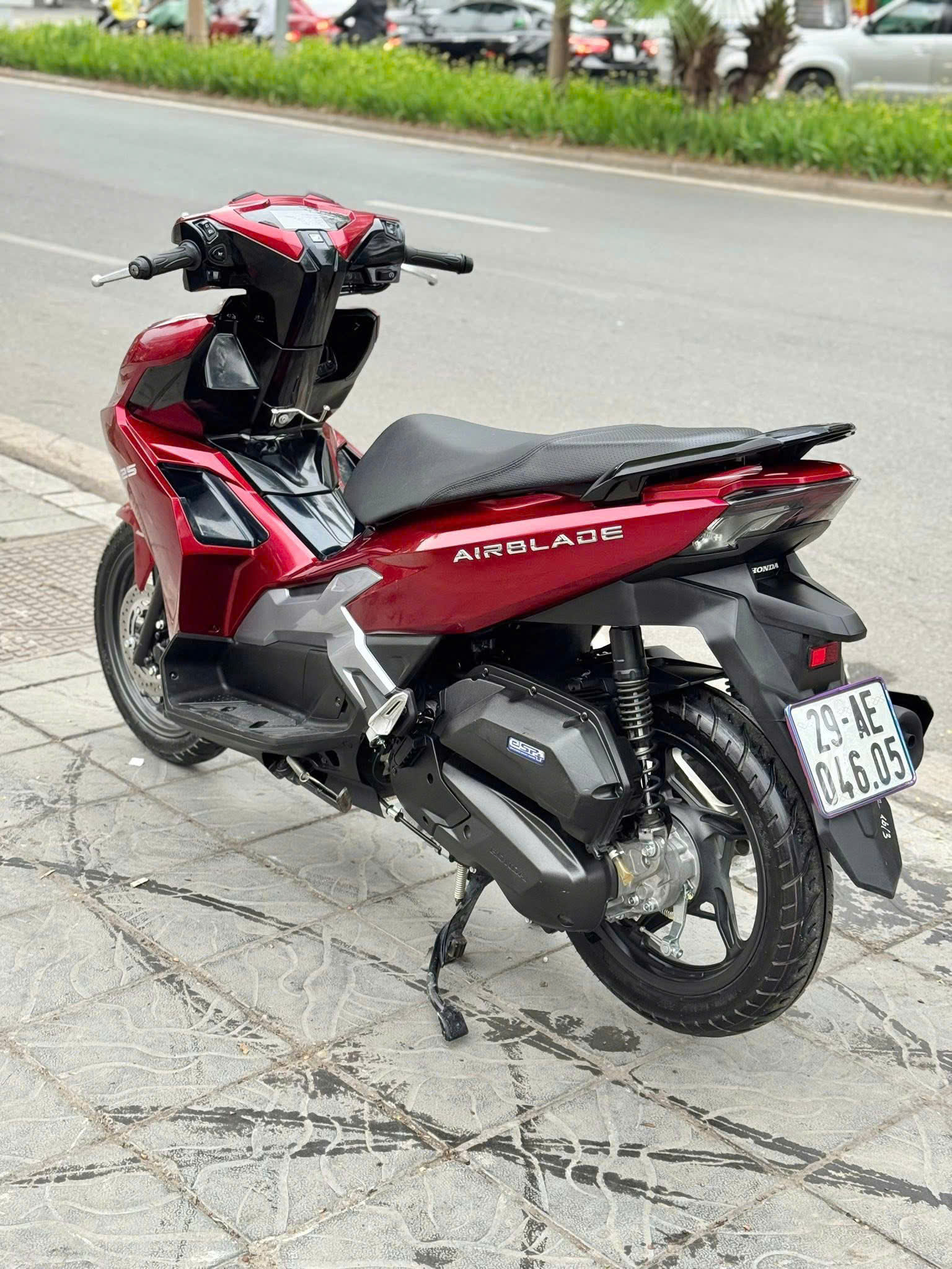Bien-so: (793, 679, 920, 819)
